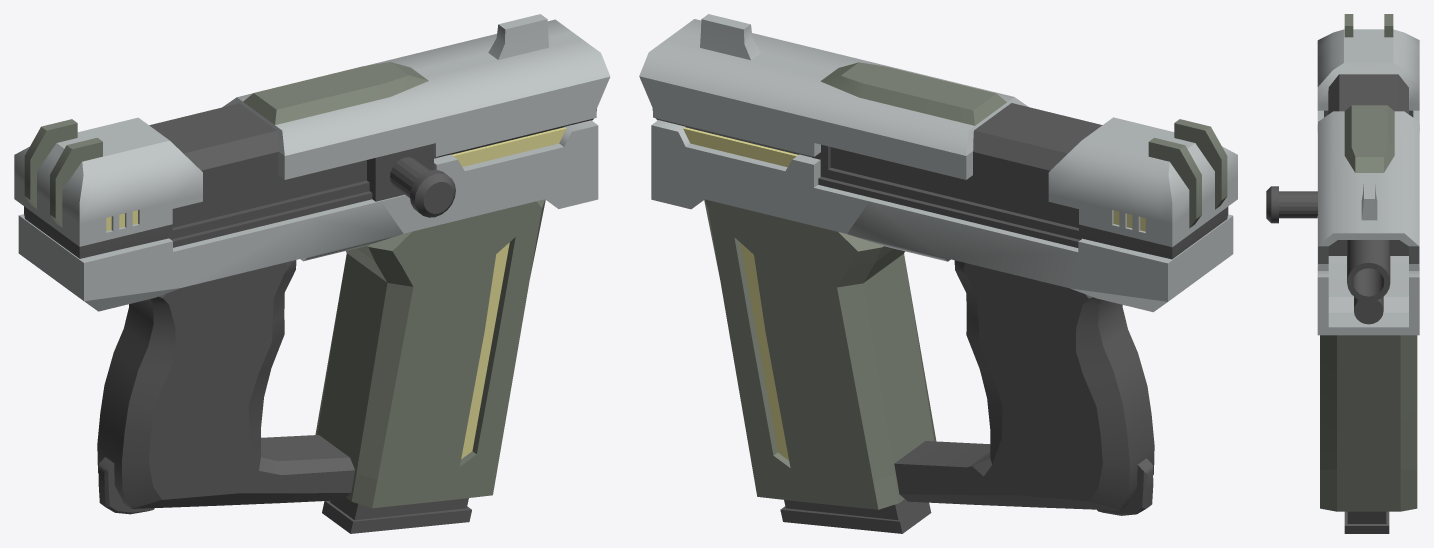
Rendered from Crossfate.fbx.
3 views of the same model, side by side, from view 1: azimuth 30°, elevation 25°; view 2: azimuth 150°, elevation 25°; view 3: azimuth 270°, elevation 25° (orthographic). The views are drawn at different scales.
Parts seen in each view (by area): view 1: Magasin, Crosse, Canon_partie_haute_avant_blanche, Blocking_interieur, Canon_partie_basse_arriere_blanche, Canon_partie_haute_arriere_blanche, Canon_partie_basse_avant_blanche, Mire_centrale, pCube1, Mire, Cylindre_cartouche, Neon_magasin (+3 smaller); view 2: Magasin, Crosse, Canon_partie_haute_avant_blanche, Blocking_interieur, Canon_partie_basse_arriere_blanche, Canon_partie_haute_arriere_blanche, Canon_partie_basse_avant_blanche, Mire_centrale, Mire, pCube1, Neon_magasin, Neon_canon (+1 smaller); view 3: Magasin, Canon_partie_haute_avant_blanche, Canon_partie_basse_avant_blanche, Canon_partie_haute_arriere_blanche, Blocking_interieur, Mire_centrale, Canon, Cylindre_cartouche, pCube1, Ligne_canon, Mire, Canon_partie_basse_arriere_blanche.
Part boxes in pixels (left/top/right/bottom): Magasin: left=315, top=199, right=545, bottom=508; Crosse: left=97, top=260, right=355, bottom=508; Canon_partie_haute_avant_blanche: left=222, top=14, right=610, bottom=179; Blocking_interieur: left=24, top=103, right=438, bottom=258; Canon_partie_basse_arriere_blanche: left=18, top=199, right=403, bottom=311; Canon_partie_haute_arriere_blanche: left=14, top=117, right=202, bottom=246; Canon_partie_basse_avant_blanche: left=381, top=120, right=598, bottom=233; Mire_centrale: left=243, top=62, right=428, bottom=124; pCube1: left=322, top=498, right=471, bottom=533; Mire: left=24, top=119, right=102, bottom=227; Cylindre_cartouche: left=390, top=157, right=455, bottom=217; Neon_magasin: left=461, top=242, right=509, bottom=459; Magasin: left=704, top=199, right=936, bottom=509; Crosse: left=894, top=260, right=1154, bottom=510; Canon_partie_haute_avant_blanche: left=639, top=14, right=1028, bottom=179; Blocking_interieur: left=812, top=103, right=1228, bottom=259; Canon_partie_basse_arriere_blanche: left=847, top=198, right=1233, bottom=312; Canon_partie_haute_arriere_blanche: left=1048, top=117, right=1237, bottom=247; Canon_partie_basse_avant_blanche: left=651, top=120, right=873, bottom=233; Mire_centrale: left=820, top=62, right=1006, bottom=125; Mire: left=1148, top=119, right=1227, bottom=228; pCube1: left=780, top=499, right=931, bottom=533; Neon_magasin: left=740, top=243, right=788, bottom=460; Neon_canon: left=683, top=127, right=797, bottom=167; Magasin: left=1320, top=335, right=1417, bottom=511; Canon_partie_haute_avant_blanche: left=1318, top=111, right=1419, bottom=270; Canon_partie_basse_avant_blanche: left=1317, top=212, right=1419, bottom=335; Canon_partie_haute_arriere_blanche: left=1317, top=29, right=1419, bottom=110; Blocking_interieur: left=1324, top=74, right=1413, bottom=255; Mire_centrale: left=1344, top=105, right=1394, bottom=172; Canon: left=1347, top=240, right=1390, bottom=301; Cylindre_cartouche: left=1266, top=186, right=1317, bottom=223; pCube1: left=1344, top=511, right=1389, bottom=533; Ligne_canon: left=1354, top=297, right=1383, bottom=324; Mire: left=1344, top=14, right=1393, bottom=37; Canon_partie_basse_arriere_blanche: left=1317, top=110, right=1419, bottom=211.
Bounding box in the file's own units: 3.11 × 2.58 × 0.9723.
